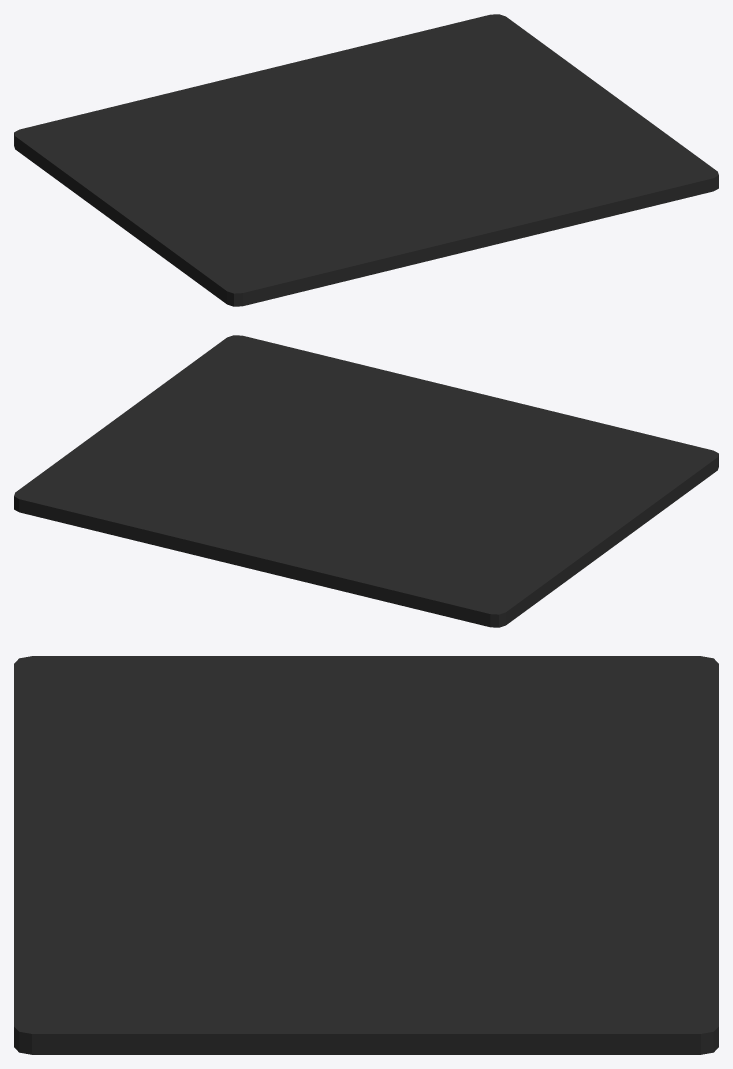
3 renders of one model, top to bottom at view 1: azimuth 30°, elevation 25°; view 2: azimuth 150°, elevation 25°; view 3: azimuth 270°, elevation 25°, orthographic. The views are drawn at different scales.
Visible parts, largest first — view 1: PC_mat_02; view 2: PC_mat_02; view 3: PC_mat_02.
Part boxes in pixels (x1,y1,x2,y2): PC_mat_02: [14, 14, 718, 306]; PC_mat_02: [14, 335, 718, 627]; PC_mat_02: [14, 656, 718, 1054].
Size of the model in its own units: 19.41 by 0.5 by 15.31.
